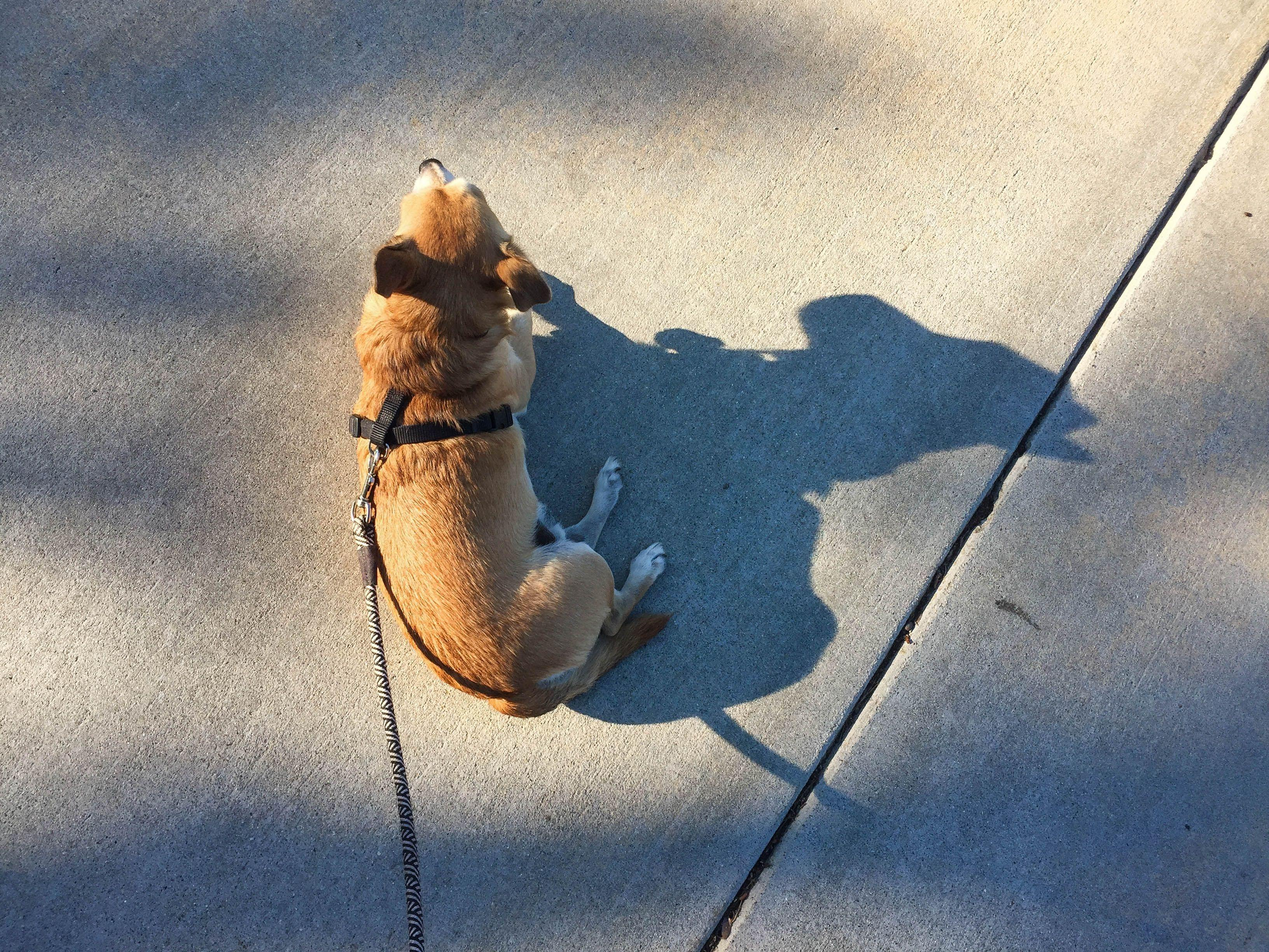adult_dog: (349, 158, 675, 721)
